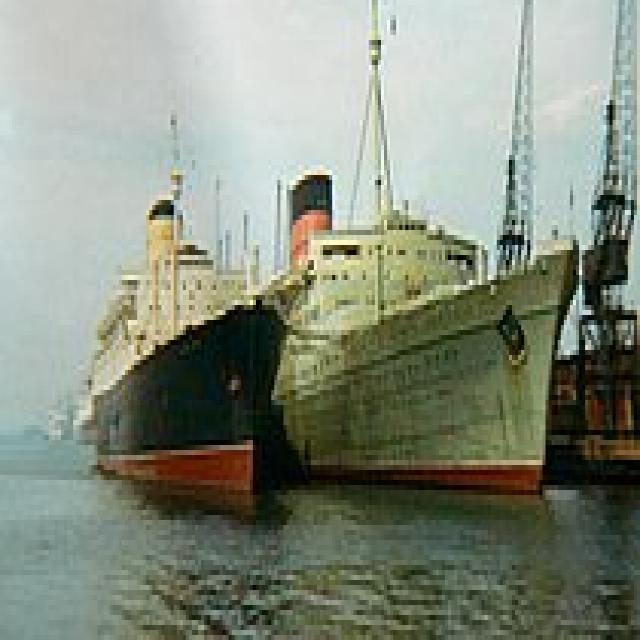Ship: (84, 176, 288, 516)
